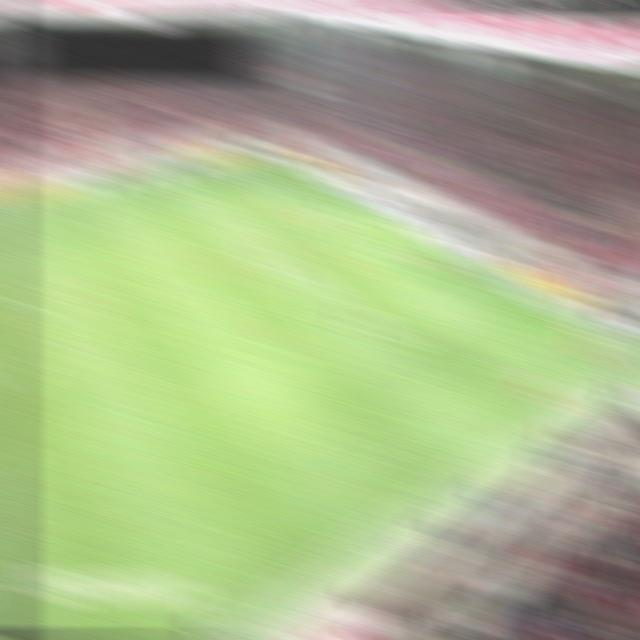bigarea_bottom_inner: (379, 324, 416, 354)
bigarea_bottom_outter: (493, 278, 532, 304)
bigarea_top_inner: (197, 185, 233, 207)
bigarea_top_outter: (290, 166, 327, 186)
bottom_arc_area_intersection: (300, 267, 337, 290)
corner: (247, 143, 284, 163)
smallarea_bottom_inner: (392, 248, 427, 270)
smallarea_bottom_outter: (423, 240, 458, 262)
smallarea_top_inner: (304, 197, 338, 218)
smallarea_top_outter: (335, 190, 370, 212)
top_arc_area_intersection: (239, 217, 273, 238)
